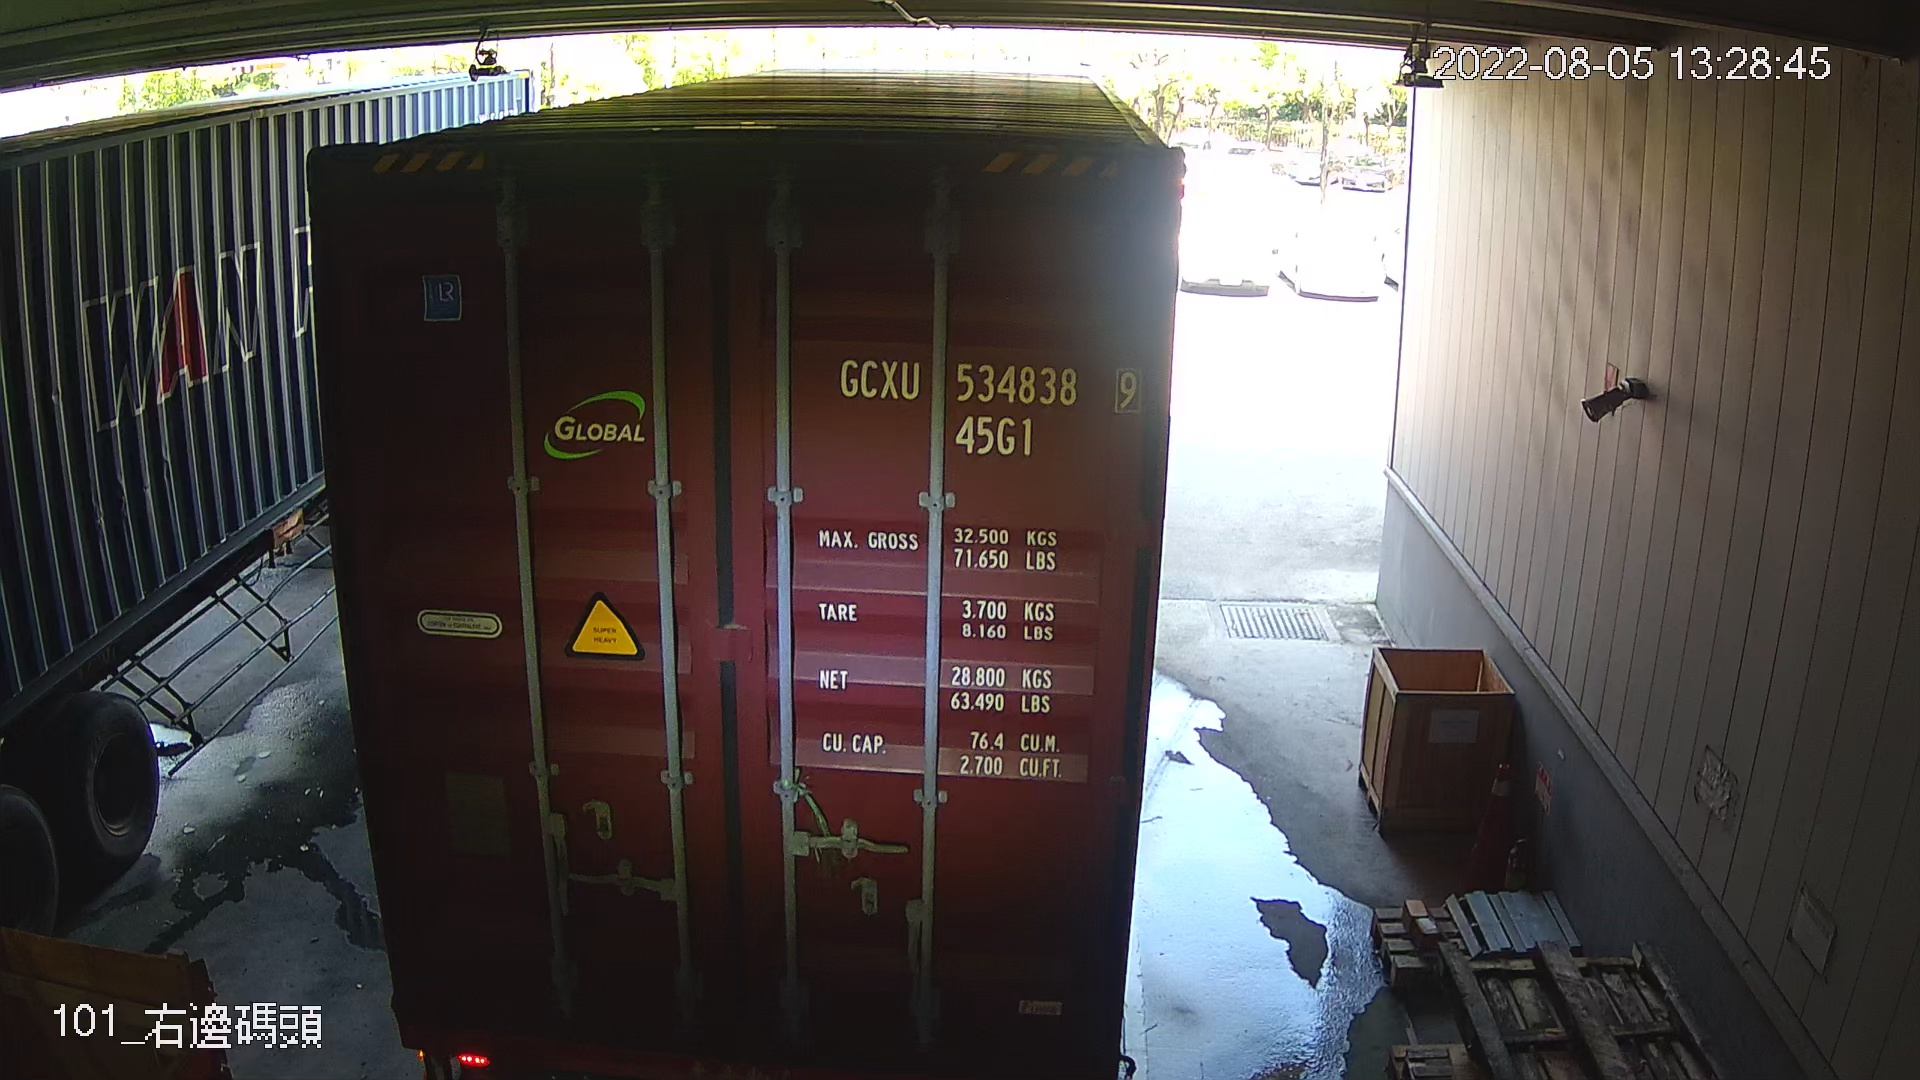container: (819, 335, 1154, 472)
